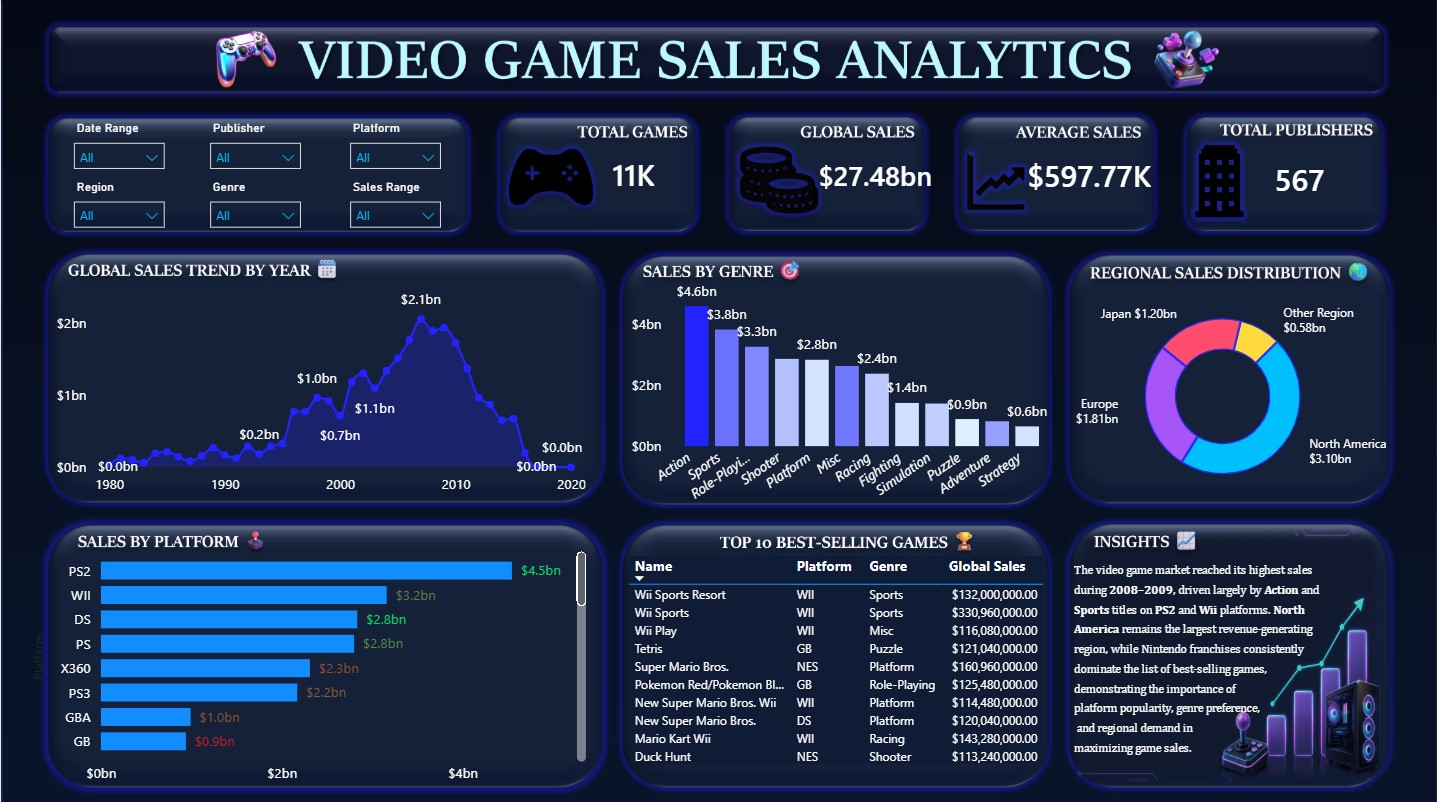

Layout of this report page (visuals, bound fields, positions):
{"tool":"powerbi","page":{"name":"Page 1","canvas":[1280,720],"ordinal":0},"visuals":[{"type":"cardVisual","fields":{"Data":["Measure.Total Games"]},"box":[515.2,117.9,111.7,72.7],"z":0},{"type":"cardVisual","fields":{"Data":["Measure.Total Publishers"]},"box":[1105.7,122.4,132.1,72.7],"z":1000},{"type":"cardVisual","fields":{"Data":["Measure.Avg Sales per Game"]},"box":[900.9,122.4,182.7,72.7],"z":2000},{"type":"cardVisual","fields":{"Data":["Measure.Total Global Sales"]},"box":[700.5,117.9,161.4,72.7],"z":3000},{"type":"lineChart","fields":{"Y":["Measure.Total Global Sales"],"Category":["Year Table.Year"]},"box":[44.3,243.8,481.5,208.4],"z":4000},{"type":"columnChart","fields":{"Category":["cleaned_vgsales.Genre"],"Y":["Measure.Total Global Sales"]},"box":[552.4,236.7,383.9,222.6],"z":5000},{"type":"textbox","box":[526.7,168.5,100.2,38.1],"z":6000},{"type":"textbox","box":[940.8,168.5,100.2,38.1],"z":7000},{"type":"textbox","box":[744.8,168.5,100.2,38.1],"z":8000},{"type":"textbox","box":[1129.7,168.5,100.2,38.1],"z":9000},{"type":"donutChart","fields":{"Category":["cleaned_vgsales.Region"],"Y":["Sum(cleaned_vgsales.Regional Sales)"]},"box":[931,254.5,310.3,194.2],"z":10000},{"type":"barChart","fields":{"Category":["cleaned_vgsales.Platform"],"Y":["Measure.Total Global Sales"]},"box":[23.1,478.8,502.8,228.8],"z":11000},{"type":"tableEx","fields":{"Values":["cleaned_vgsales.Name","cleaned_vgsales.Platform","cleaned_vgsales.Genre","Measure.Total Global Sales"]},"box":[552.5,492.2,388.1,210.1],"z":12000},{"type":"slicer","fields":{"Values":["cleaned_vgsales.Publisher"]},"box":[175.6,102.9,101.1,62.1],"z":13000},{"type":"slicer","fields":{"Values":["Year Table.Year"]},"box":[55,102.9,101.1,62.1],"z":14000},{"type":"slicer","fields":{"Values":["cleaned_vgsales.Platform"]},"box":[300.6,102.9,101.1,62.1],"z":15000},{"type":"slicer","fields":{"Values":["cleaned_vgsales.Region"]},"box":[54.1,154.3,101.1,62.1],"z":16000},{"type":"slicer","fields":{"Values":["cleaned_vgsales.Genre"]},"box":[175.6,154.3,101.1,62.1],"z":17000},{"type":"slicer","fields":{"Values":["cleaned_vgsales.Sales Range"]},"box":[300.6,154.3,101.1,62.1],"z":18000},{"type":"textbox","box":[950.5,492.1,237.6,210.1],"z":19000}]}

Visuals, with their boxes in screenshot pixels (x1, y1, x2, y2), scaled from the page's 1280x720 canvas onto the 1437x802 screenshot:
cardVisual - Measure.Total Games: 578/131/704/212
cardVisual - Measure.Total Publishers: 1241/136/1390/217
cardVisual - Measure.Avg Sales per Game: 1011/136/1217/217
cardVisual - Measure.Total Global Sales: 786/131/968/212
lineChart - Measure.Total Global Sales x Year Table.Year: 50/272/590/504
columnChart - cleaned_vgsales.Genre x Measure.Total Global Sales: 620/264/1051/512
textbox: 591/188/704/230
textbox: 1056/188/1169/230
textbox: 836/188/949/230
textbox: 1268/188/1381/230
donutChart - cleaned_vgsales.Region x Sum(cleaned_vgsales.Regional Sales): 1045/283/1394/500
barChart - cleaned_vgsales.Platform x Measure.Total Global Sales: 26/533/590/788
tableEx - cleaned_vgsales.Name x cleaned_vgsales.Platform: 620/548/1056/782
slicer - cleaned_vgsales.Publisher: 197/115/311/184
slicer - Year Table.Year: 62/115/175/184
slicer - cleaned_vgsales.Platform: 337/115/451/184
slicer - cleaned_vgsales.Region: 61/172/174/241
slicer - cleaned_vgsales.Genre: 197/172/311/241
slicer - cleaned_vgsales.Sales Range: 337/172/451/241
textbox: 1067/548/1334/782
